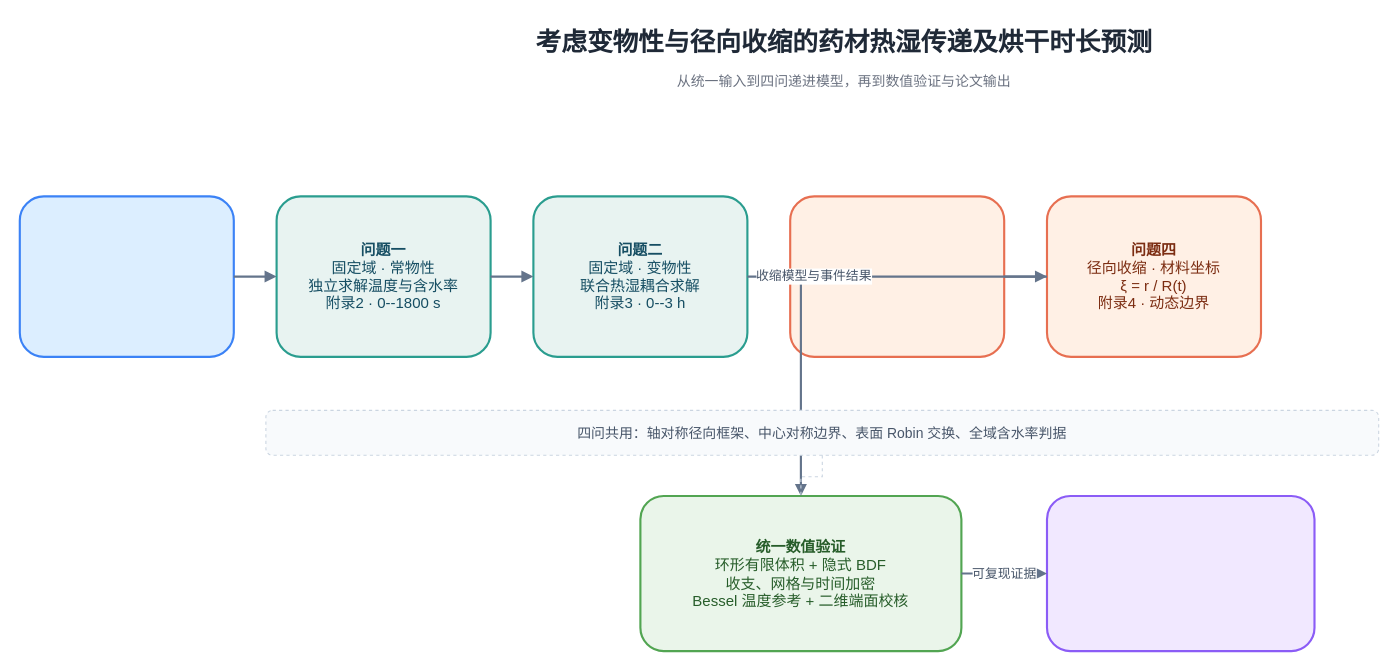
Some shapes in this 1397 by 670 pixel diagram are drawn without their labels. The shapes that lost their labels are listed below. From the top down, each one's centre as x and y in pixels, then its label:
At pixel 126 276: "统一输入 附件1：烘房环境 Ta(t), Ca(t) 附件2：半径轨迹 R(t) 附录2--4：物性关系".
At pixel 897 276: "问题三 全域达标事件 M(t)=max C(r,t) < 0.15 长期环境延续 + 事件求根".
At pixel 1180 573: "论文输出 温度场与含水率场 表格、图形与达标时长 模型边界与结论".
